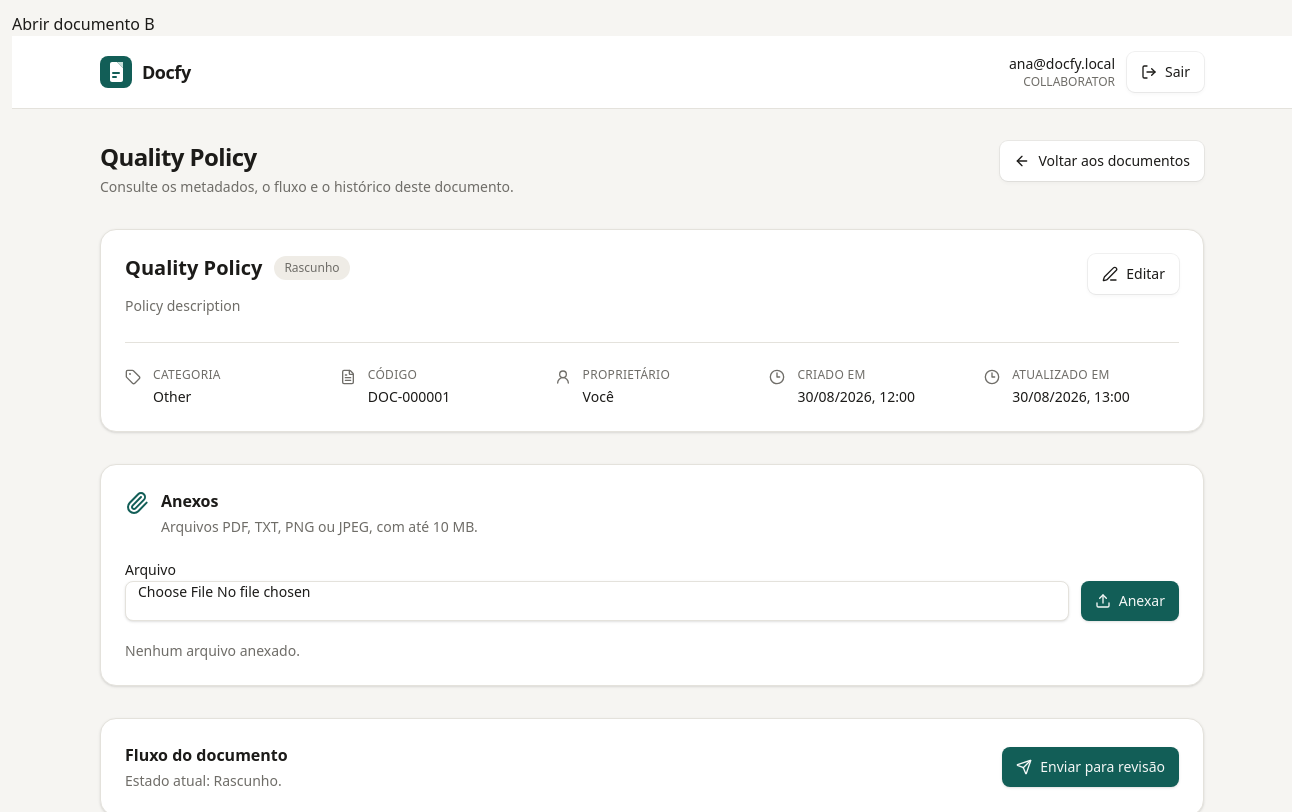
Test: DocumentDetailPage workflow › submit updates the document status and shows success
The width and height of the screenshot is (1292, 812).
Click the button "Enviar para revisão" at (1091, 767), box [1002,747,1179,787]
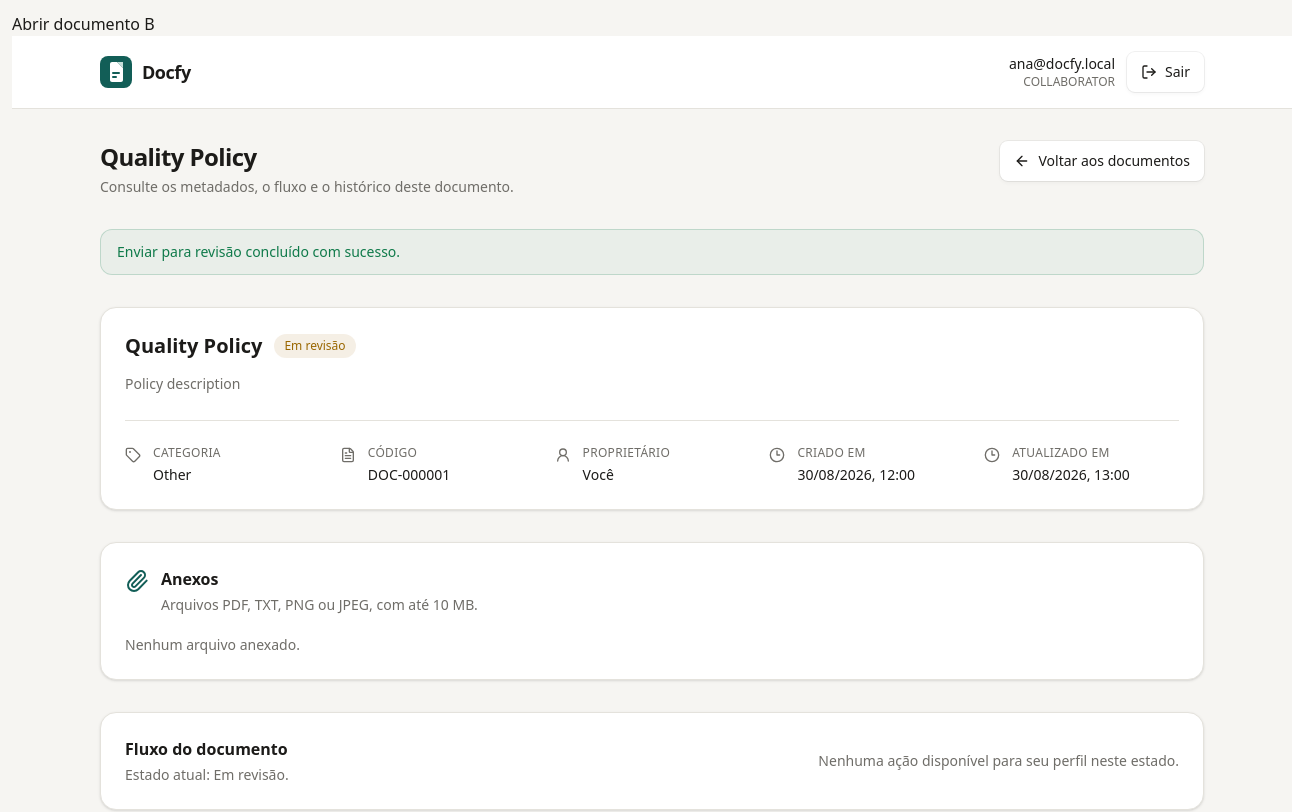
expect the text "Estado atual: Em revisão." is shown: met, box [125,765,289,785]
